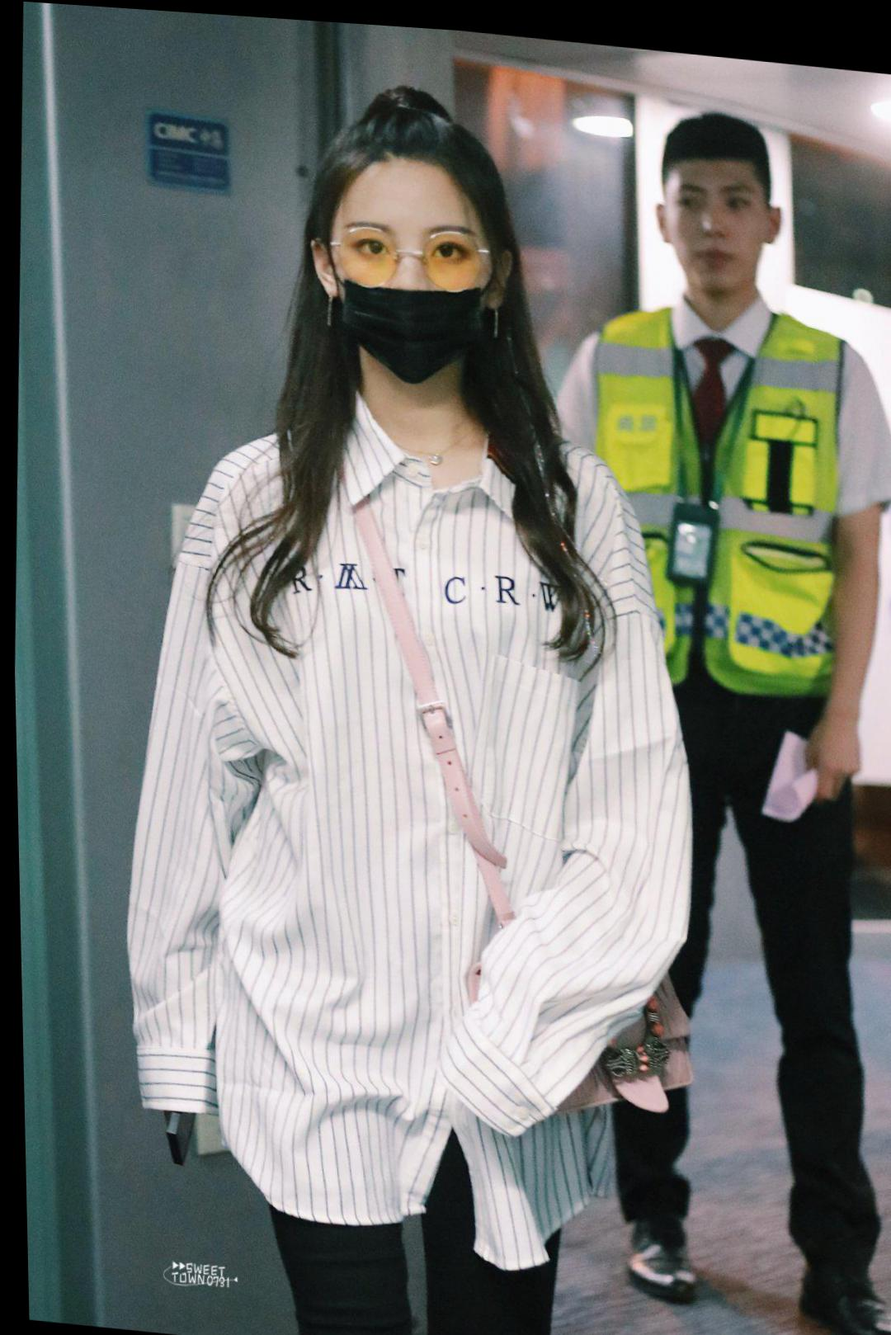NONE: (663, 160, 763, 288)
WRONG: (328, 182, 493, 381)
